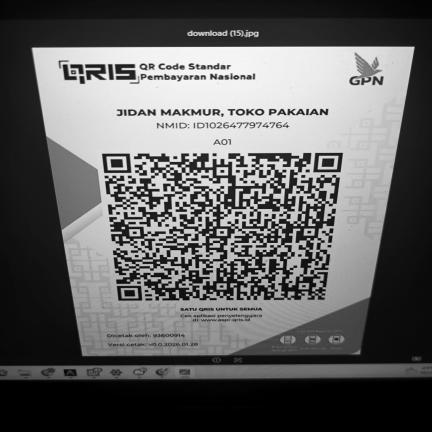Qris-Positioning: (33, 47, 413, 355), (52, 67, 53, 68)
